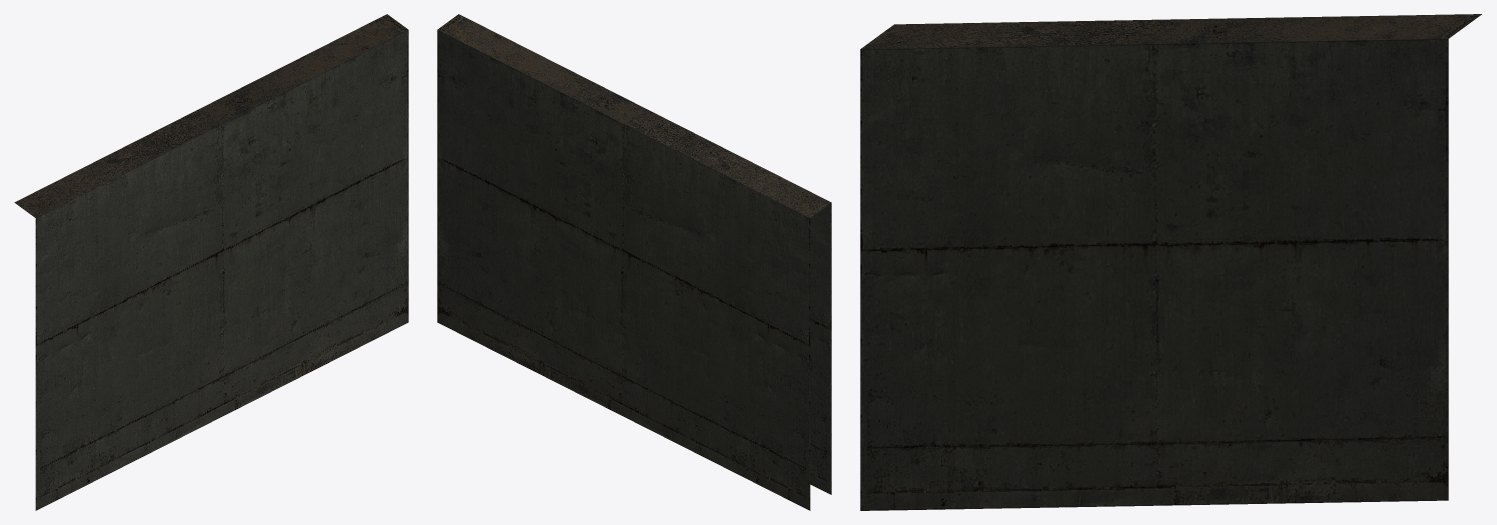
File: wall_rg_1_angle.glb
3 views of the same model, side by side, from view 1: azimuth 30°, elevation 25°; view 2: azimuth 150°, elevation 25°; view 3: azimuth 330°, elevation 25° (orthographic). The views are drawn at different scales.
Parts seen in each view (by area): view 1: wall_rg_1_angle; view 2: wall_rg_1_angle; view 3: wall_rg_1_angle.
Boxes of the visible parts, box(x1,y1,x2,y2) form: wall_rg_1_angle: box(14, 14, 408, 510); wall_rg_1_angle: box(437, 14, 831, 510); wall_rg_1_angle: box(860, 14, 1481, 510).
Size of the model in its own units: 4 by 4 by 0.4.
Materials: 2 (2 with a texture image).
